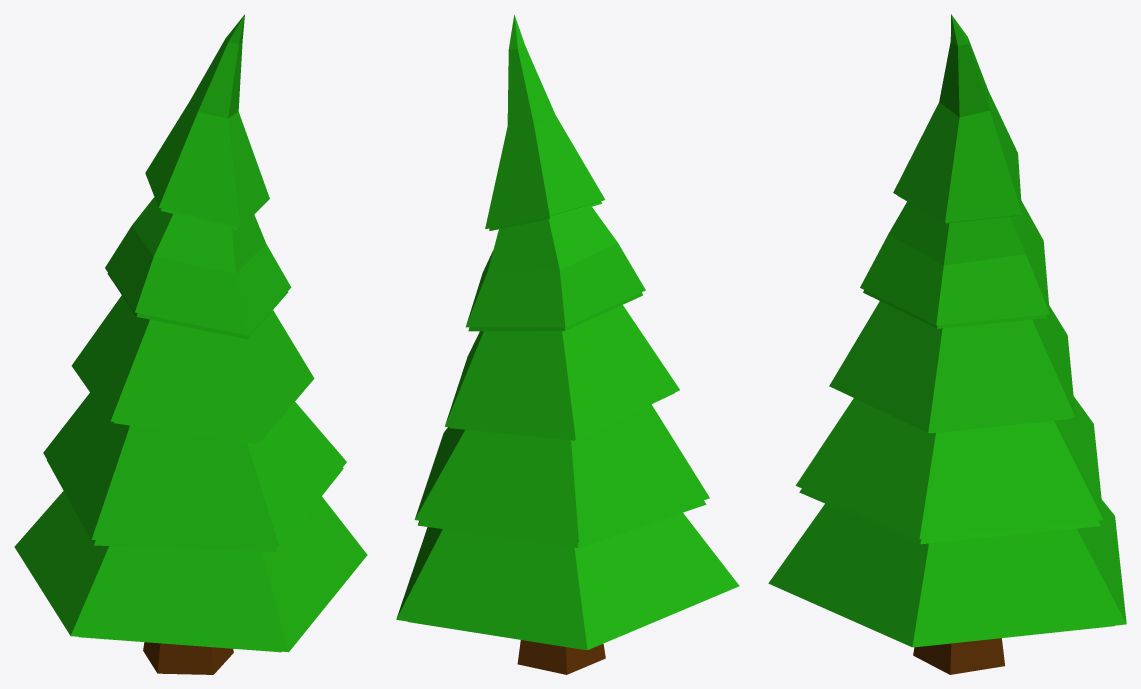
Rendered from Tree.fbx.
3 renders of one model, left to right at view 1: azimuth 30°, elevation 25°; view 2: azimuth 150°, elevation 25°; view 3: azimuth 270°, elevation 25°, orthographic. The views are drawn at different scales.
Visible parts, largest first — view 1: Cylinder.001; view 2: Cylinder.001; view 3: Cylinder.001.
Boxes of the visible parts, x1,y1,x2,y2 form: Cylinder.001: [14, 14, 367, 674]; Cylinder.001: [396, 14, 739, 674]; Cylinder.001: [768, 14, 1126, 674].
Size of the model in its own units: 205 by 198 by 407.
